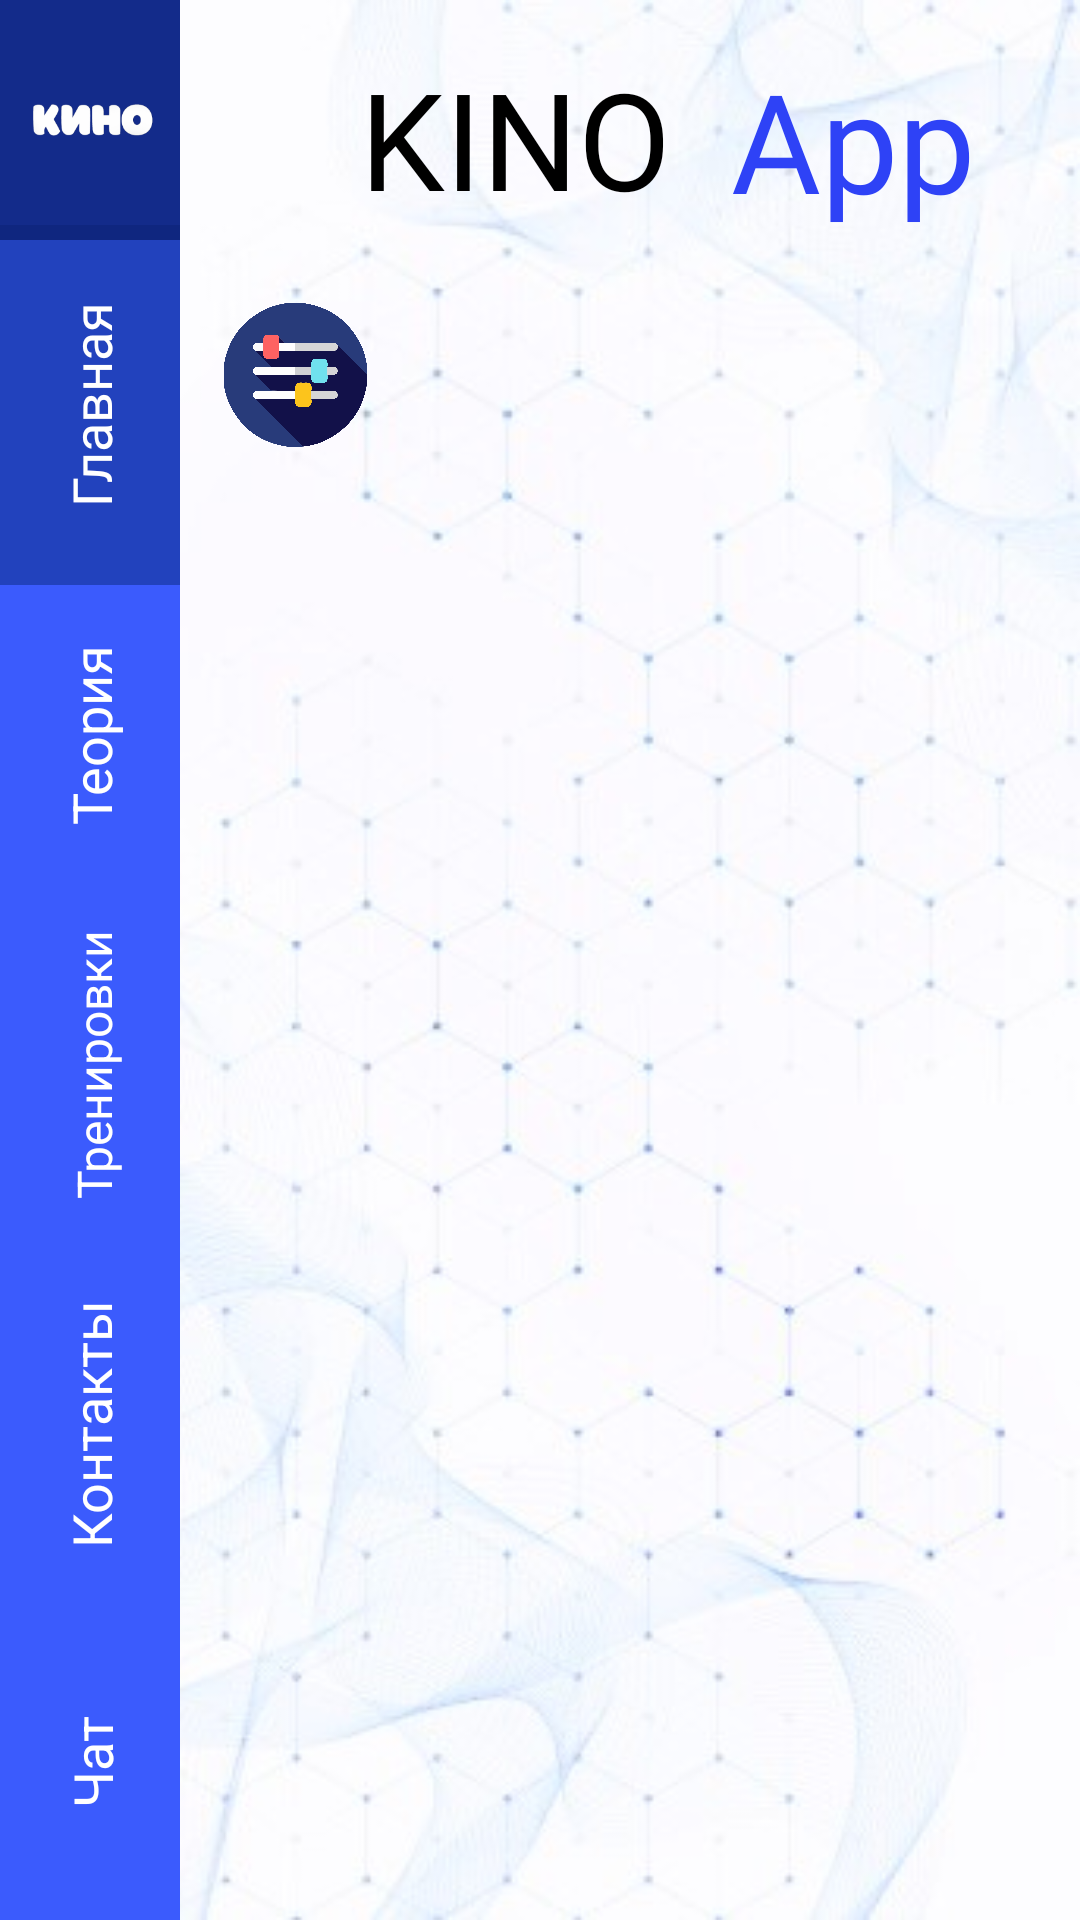

Point at icon controls on the screen. Image size 1080 x 1920, points as (x,y).
filter: (298,375)
